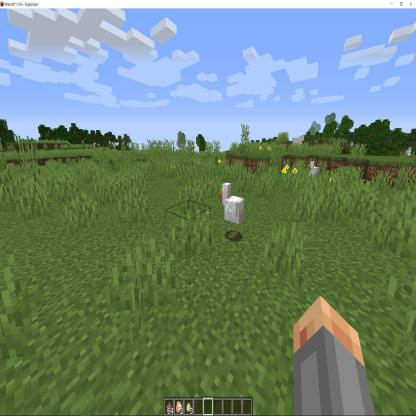minecraft-pigs: (217, 178, 245, 241), (306, 159, 323, 188)
